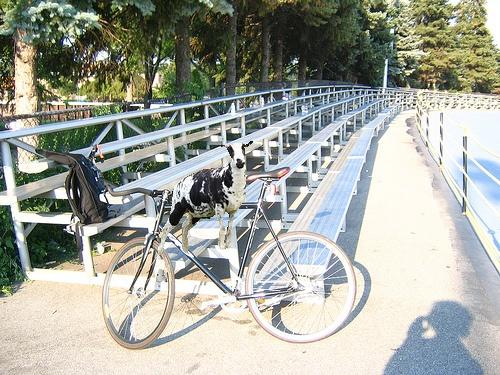tampered: (159, 142, 253, 255)
